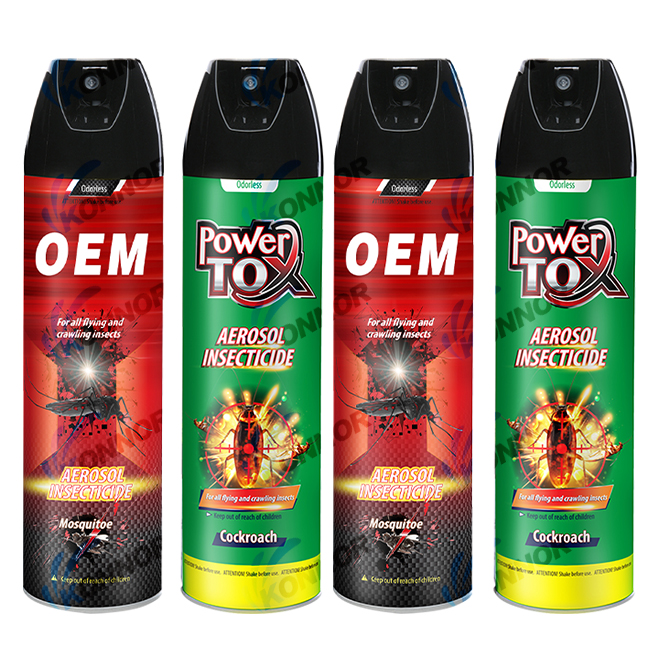Insecticide: (489, 50, 644, 618), (15, 50, 168, 618), (174, 50, 327, 615), (330, 52, 480, 613)
